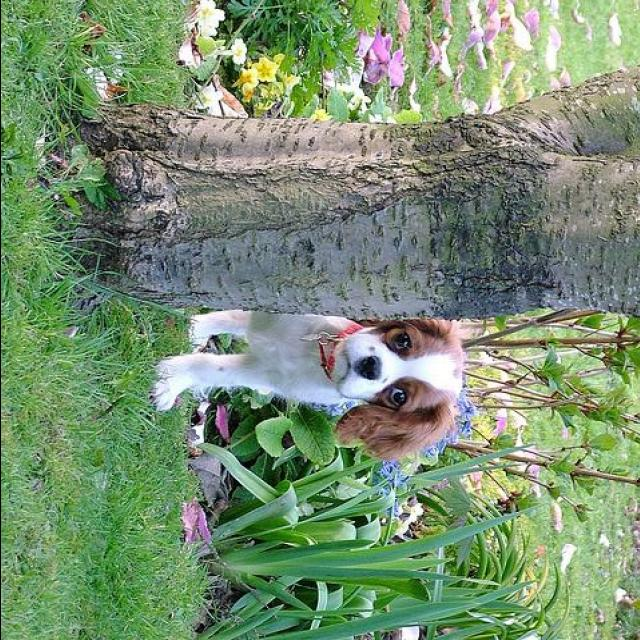blenheim_spaniel: (150, 306, 466, 458)
